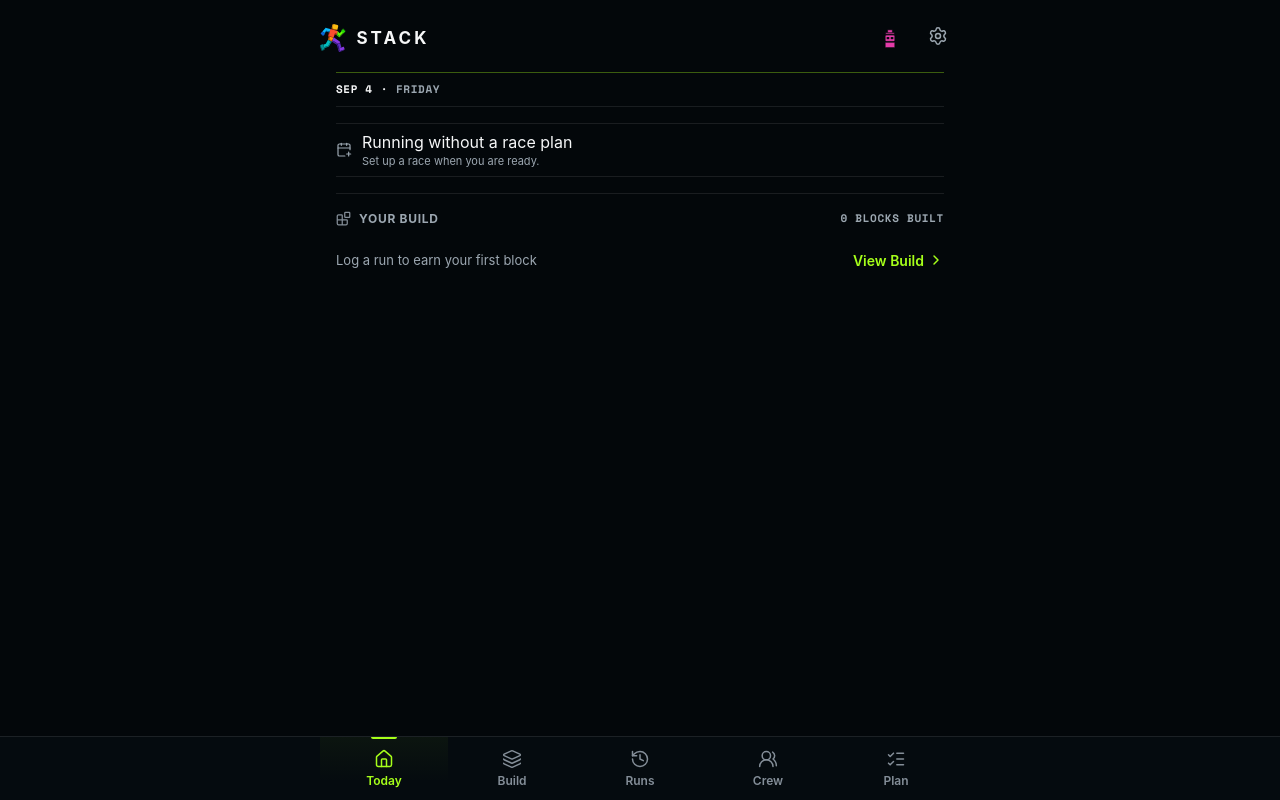
Crew as a conditional destination › opens the Crew destination from the Crew tab
Step 1. Click the button "Crew" → (768,768), box [704,737,832,799]
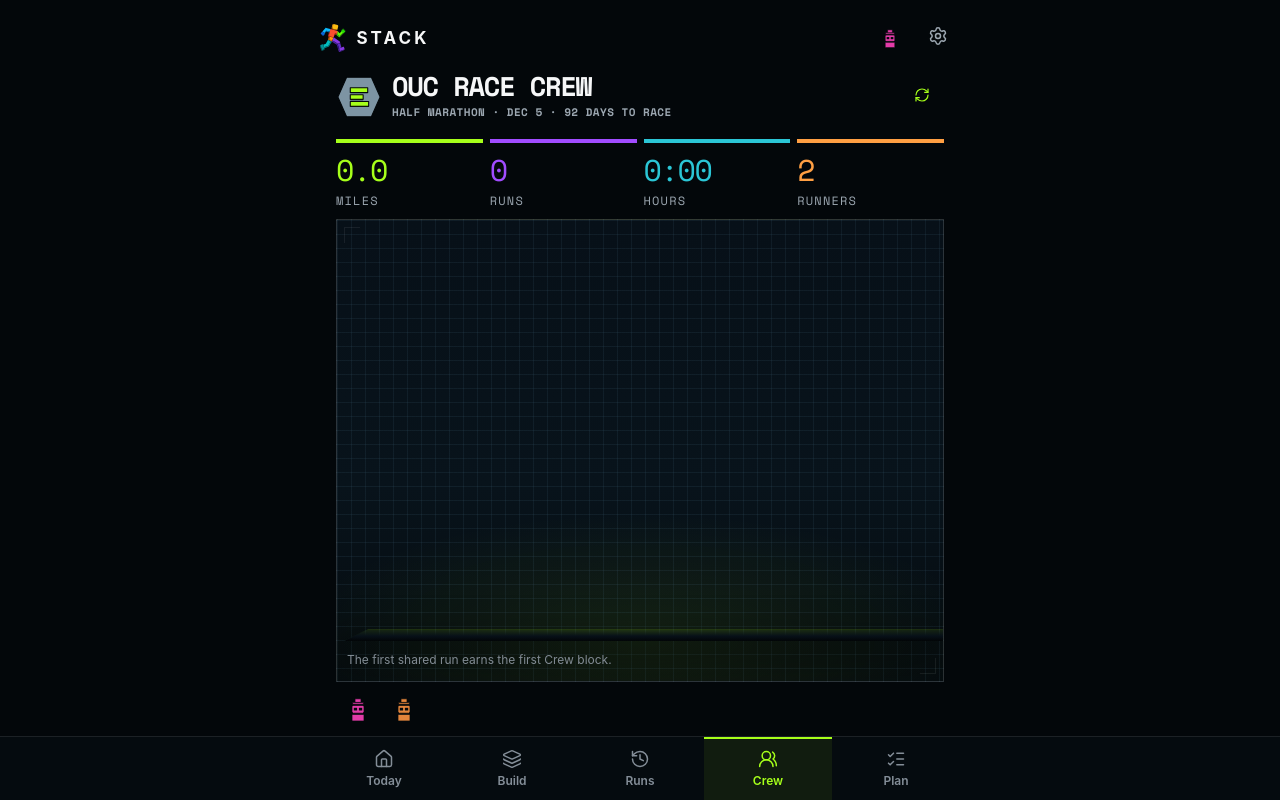
Check: the heading "OUC Race Crew" is shown, box [392,66,591,106]
Check: the element named "Crew Build" is shown, box [336,139,944,731]
